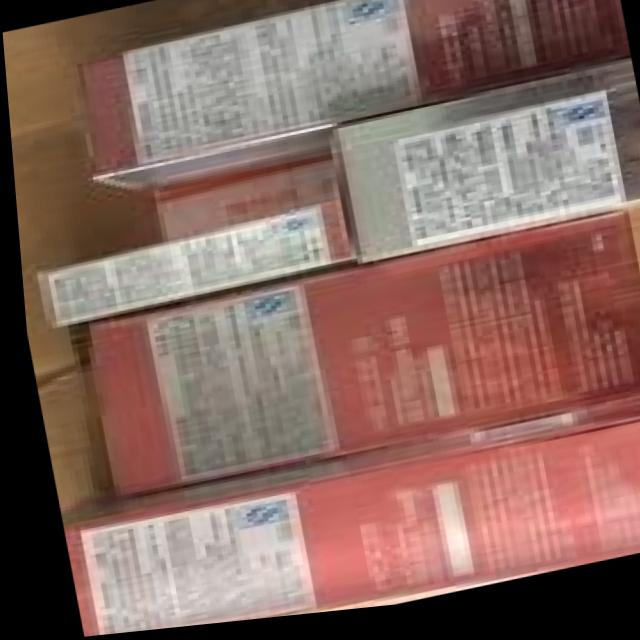box: (2, 0, 640, 637), (75, 220, 640, 495), (56, 405, 640, 637), (76, 0, 623, 197), (335, 79, 622, 267), (37, 203, 351, 329), (145, 164, 336, 244)
